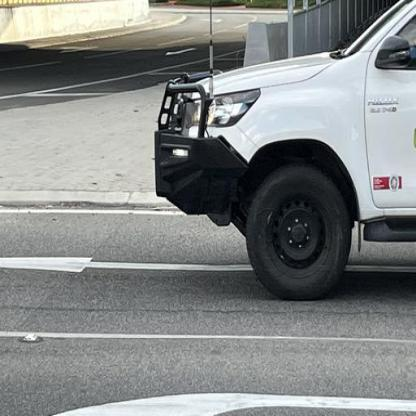Tire: (244, 164, 353, 303)
